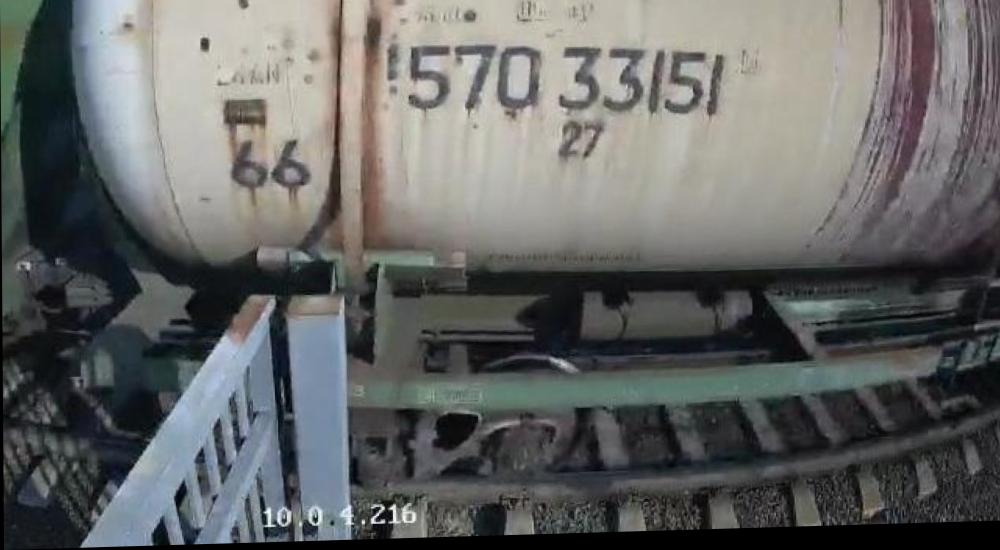Wagon-number: (406, 36, 727, 132)
